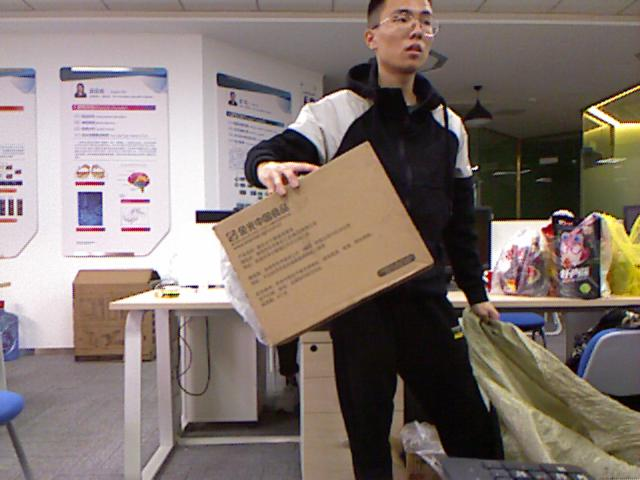cardboard paper: (213, 141, 431, 343), (74, 270, 158, 360)
